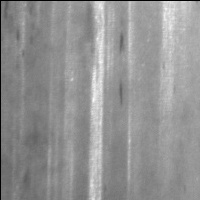inclusion: (115, 79, 130, 106), (116, 28, 129, 57)
scratches: (85, 1, 108, 200), (55, 27, 81, 166), (158, 1, 179, 104)
